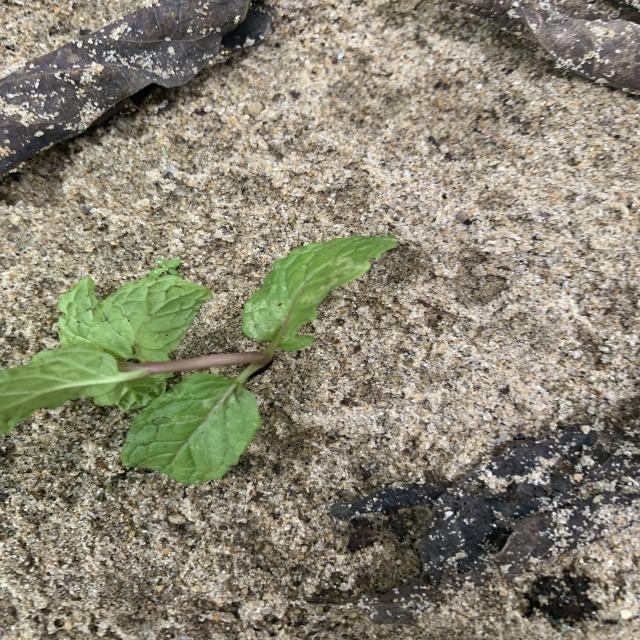crop: (0, 237, 397, 484)
weed: (148, 258, 181, 279)
